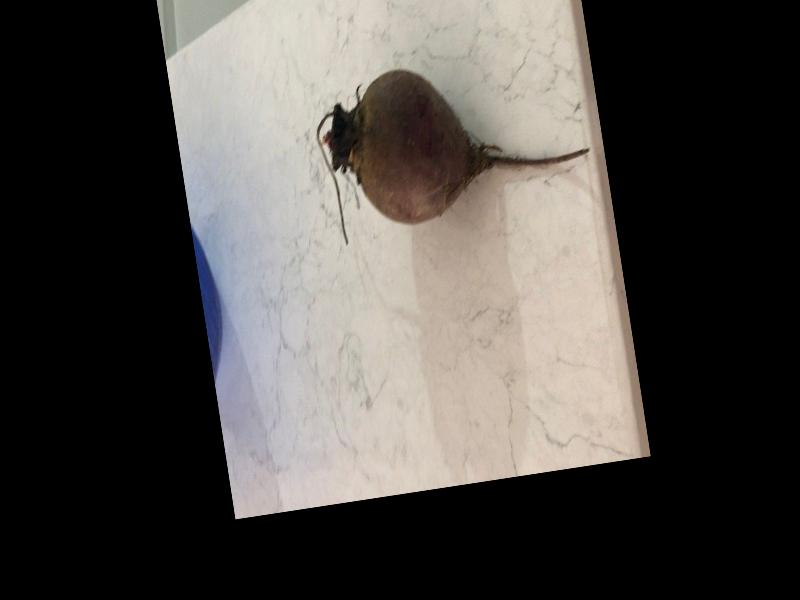Beet: (307, 44, 598, 248)
